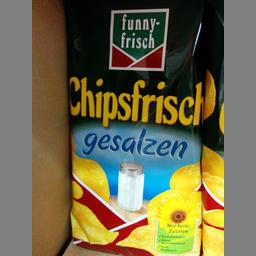chips: (64, 1, 211, 254)
